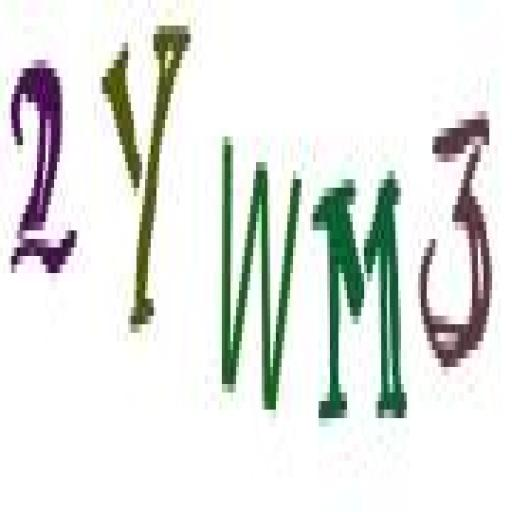2: (5, 42, 81, 293)
3: (419, 104, 499, 385)
M: (307, 164, 415, 434)
W: (216, 120, 306, 432)
Y: (96, 11, 194, 358)
